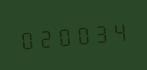four: (108, 17, 125, 45)
three: (90, 18, 107, 47)
two: (35, 23, 52, 51)
zero: (17, 24, 34, 53), (54, 21, 71, 50), (72, 20, 89, 48)
